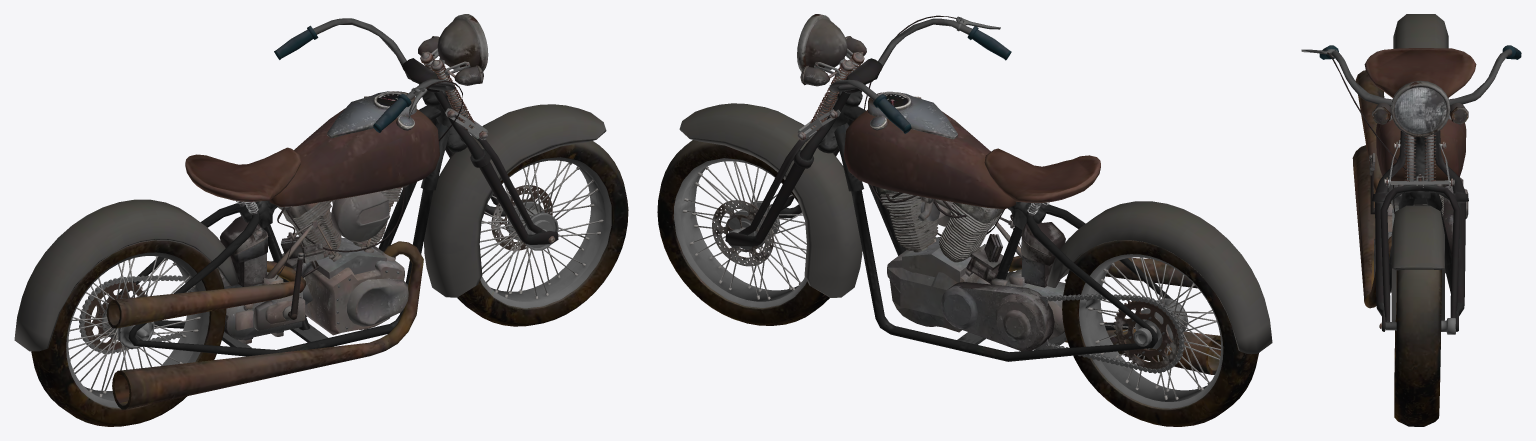
The model's file is rusty_motorbike.glb.
3 renders of one model, left to right at view 1: azimuth 30°, elevation 25°; view 2: azimuth 150°, elevation 25°; view 3: azimuth 270°, elevation 25°, orthographic. The views are drawn at different scales.
Parts seen in each view (by area): view 1: Object_2; view 2: Object_2; view 3: Object_2.
Part boxes in pixels (x1,y1,x2,y2): Object_2: (14, 14, 628, 426); Object_2: (657, 14, 1272, 426); Object_2: (1301, 14, 1521, 426).
Size of the model in its own units: 2.32 by 1.18 by 0.7653.
Materials: 1 (1 with a texture image).
